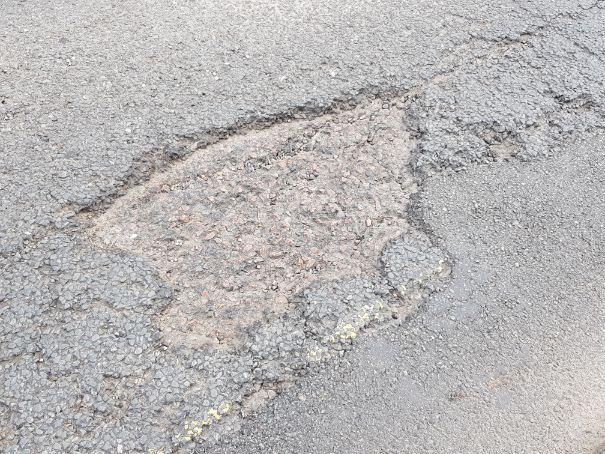pothole: (59, 77, 457, 382)
